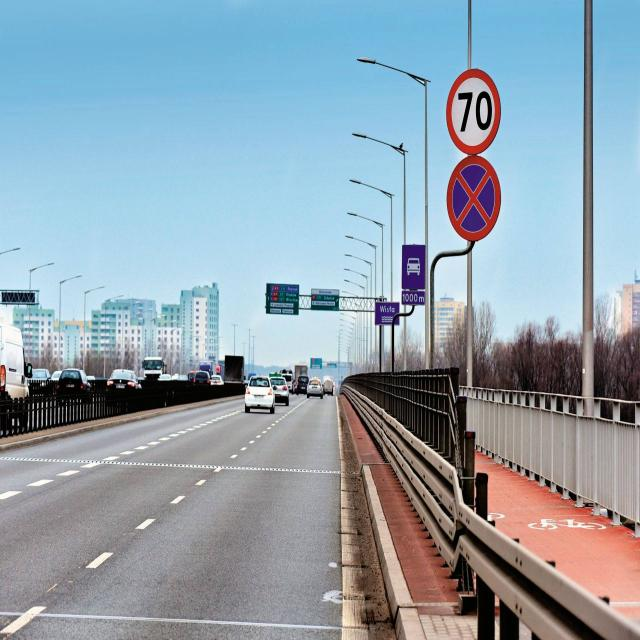Speed Limit -70-: (458, 91, 492, 134)
